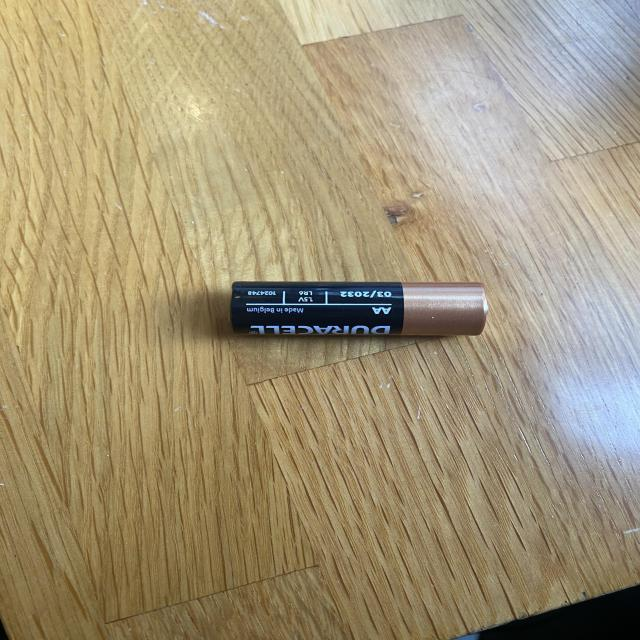AA: (225, 279, 492, 337)
